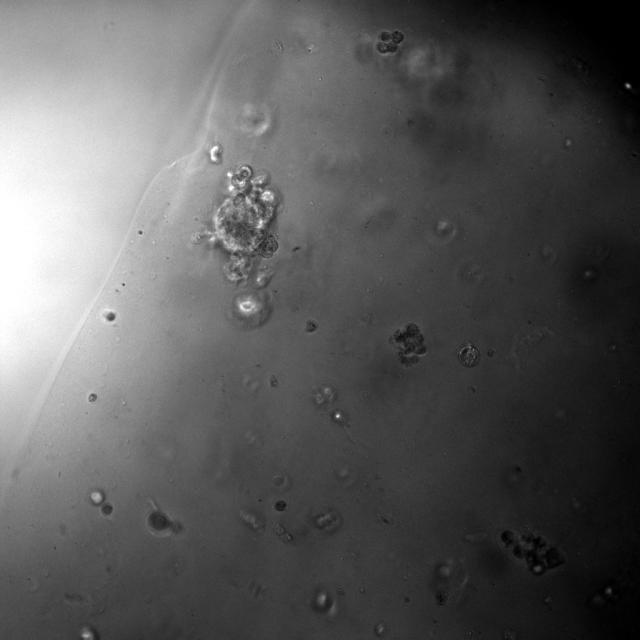organoid: (192, 165, 279, 287), (501, 530, 564, 575), (389, 323, 426, 366), (376, 29, 404, 54), (458, 342, 480, 366), (148, 510, 170, 531), (208, 143, 222, 163), (305, 318, 318, 333), (274, 500, 287, 512), (101, 503, 112, 515), (103, 311, 115, 321), (88, 393, 96, 401)
